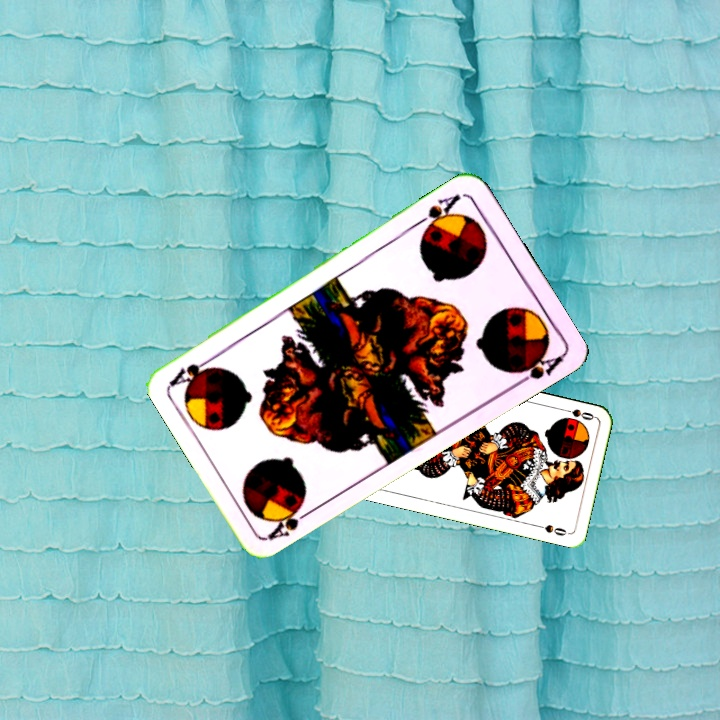SA: (264, 495, 317, 543), (412, 189, 464, 236)
SO: (557, 404, 597, 423)
